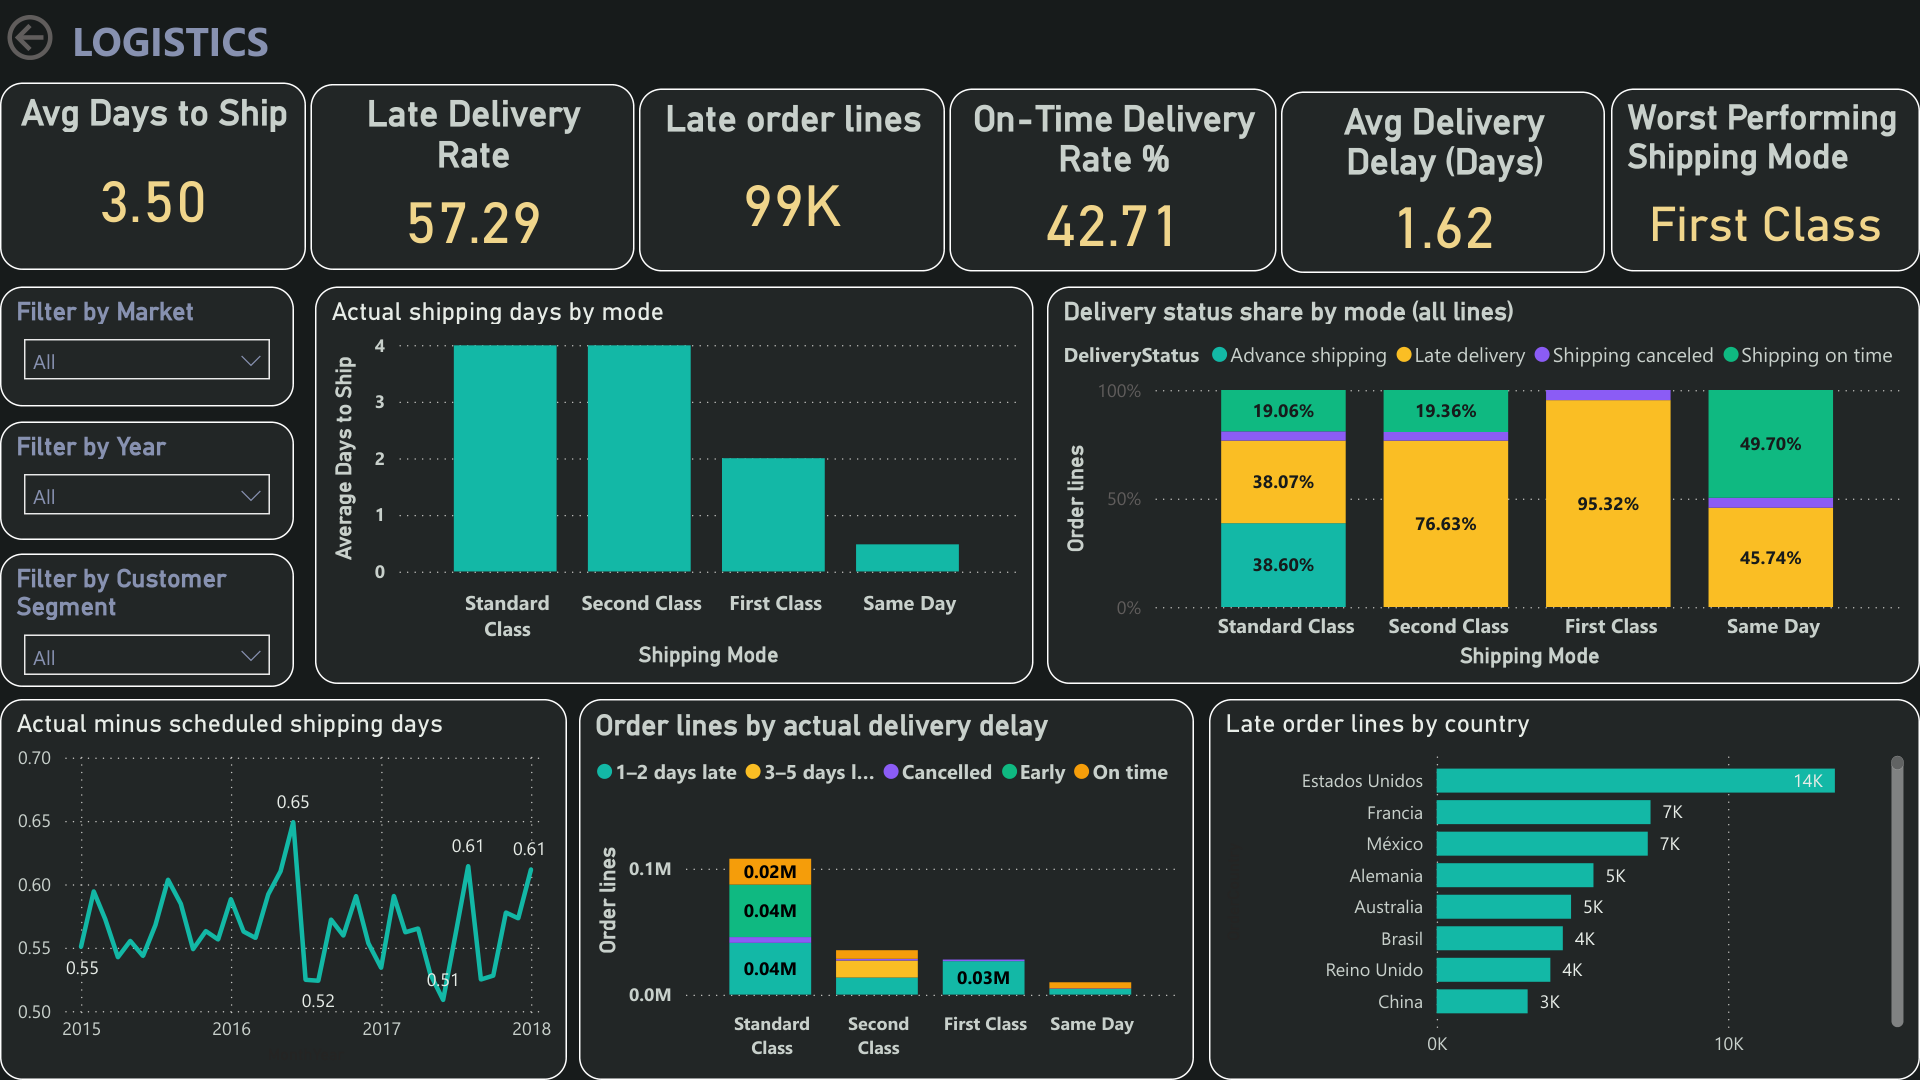

This screenshot's page, from the dashboard's own definition file:
{"tool":"powerbi","page":{"name":"Logistics","canvas":[1280,720],"ordinal":5},"visuals":[{"type":"card","title":"Avg Days to Ship","fields":{"Values":["FactOrderItem.Avg Days to Ship"]},"box":[0,55.5,203.6,124.5],"z":0},{"type":"card","title":"Late Delivery Rate","fields":{"Values":["FactOrderItem.Late Delivery Rate"]},"box":[207.1,55.7,215.7,124.3],"z":1000},{"type":"card","title":"Late order lines","fields":{"Values":["FactOrderItem.Late Delivery Count"]},"box":[425.7,58.6,204.3,122.9],"z":2000},{"type":"clusteredColumnChart","title":"Actual shipping days by mode","fields":{"Y":["FactOrderItem.Avg Days to Ship"],"Category":["DimShipping.ShippingMode"]},"box":[210,191.2,478.8,265],"z":3000},{"type":"columnChart","title":"Order lines by actual delivery delay","fields":{"Category":["DimShipping.ShippingMode"],"Series":["FactOrderItem.Delivery Delay Band"],"Y":["CountNonNull(FactOrderItem.OrderItemId)"]},"box":[386.2,466.2,410,253.8],"z":4000},{"type":"textbox","box":[42.5,2.5,153.8,46.2],"z":5000},{"type":"slicer","title":"Filter by Market","fields":{"Values":["DimLocation.Market"]},"box":[0,191.2,196.2,80],"z":6000},{"type":"slicer","title":"Filter by Year","fields":{"Values":["DimDate.Year"]},"box":[0,281.2,196.2,78.8],"z":7000},{"type":"slicer","title":"Filter by Customer Segment","fields":{"Values":["DimCustomer.CustomerSegment"]},"box":[0,368.8,196.2,88.8],"z":8000},{"type":"clusteredBarChart","title":"Late order lines by country","fields":{"Category":["DimLocation.OrderCountry"],"Y":["FactOrderItem.Late Delivery Count"]},"box":[806.2,466.2,473.8,253.8],"z":9000},{"type":"card","title":"Avg Delivery Delay (Days)","fields":{"Values":["FactOrderItem.Avg Delivery Delay (Days)"]},"box":[853.5,60.5,216.4,121.1],"z":10000},{"type":"card","title":"On-Time Delivery Rate %","fields":{"Values":["FactOrderItem.On-Time Delivery Rate %"]},"box":[632.9,58.6,218.6,122.9],"z":11000},{"type":"card","title":"Worst Performing Shipping Mode","fields":{"Values":["FactOrderItem.Worst Shipping Mode"]},"box":[1074.4,59.4,205.6,121.9],"z":12000},{"type":"hundredPercentStackedColumnChart","title":"Delivery status share by mode (all lines)","fields":{"Category":["DimShipping.ShippingMode"],"Series":["FactOrderItem.DeliveryStatus"],"Y":["CountNonNull(FactOrderItem.OrderItemId)"]},"box":[697.5,191.2,582.5,265],"z":13000},{"type":"lineChart","title":"Actual minus scheduled shipping days","fields":{"Category":["DimDate.MonthYear"],"Y":["FactOrderItem.Avg Delivery Delta Days"]},"box":[0,466.2,377.5,253.8],"z":14000},{"type":"actionButton","box":[0,5,100,40],"z":15000}]}

Visuals, with their boxes in screenshot pixels (x1, y1, x2, y2), scaled from the page's 1280x720 canvas onto the 1920x1080 screenshot:
"Avg Days to Ship" card: crop(0, 83, 305, 270)
"Late Delivery Rate" card: crop(311, 84, 634, 270)
"Late order lines" card: crop(639, 88, 945, 272)
"Actual shipping days by mode" clusteredColumnChart: crop(315, 287, 1033, 684)
"Order lines by actual delivery delay" columnChart: crop(579, 699, 1194, 1079)
textbox: crop(64, 4, 294, 73)
"Filter by Market" slicer: crop(0, 287, 294, 407)
"Filter by Year" slicer: crop(0, 422, 294, 540)
"Filter by Customer Segment" slicer: crop(0, 553, 294, 686)
"Late order lines by country" clusteredBarChart: crop(1209, 699, 1919, 1079)
"Avg Delivery Delay (Days)" card: crop(1280, 91, 1605, 272)
"On-Time Delivery Rate %" card: crop(949, 88, 1277, 272)
"Worst Performing Shipping Mode" card: crop(1612, 89, 1919, 272)
"Delivery status share by mode (all lines)" hundredPercentStackedColumnChart: crop(1046, 287, 1919, 684)
"Actual minus scheduled shipping days" lineChart: crop(0, 699, 566, 1079)
actionButton: crop(0, 8, 150, 68)
